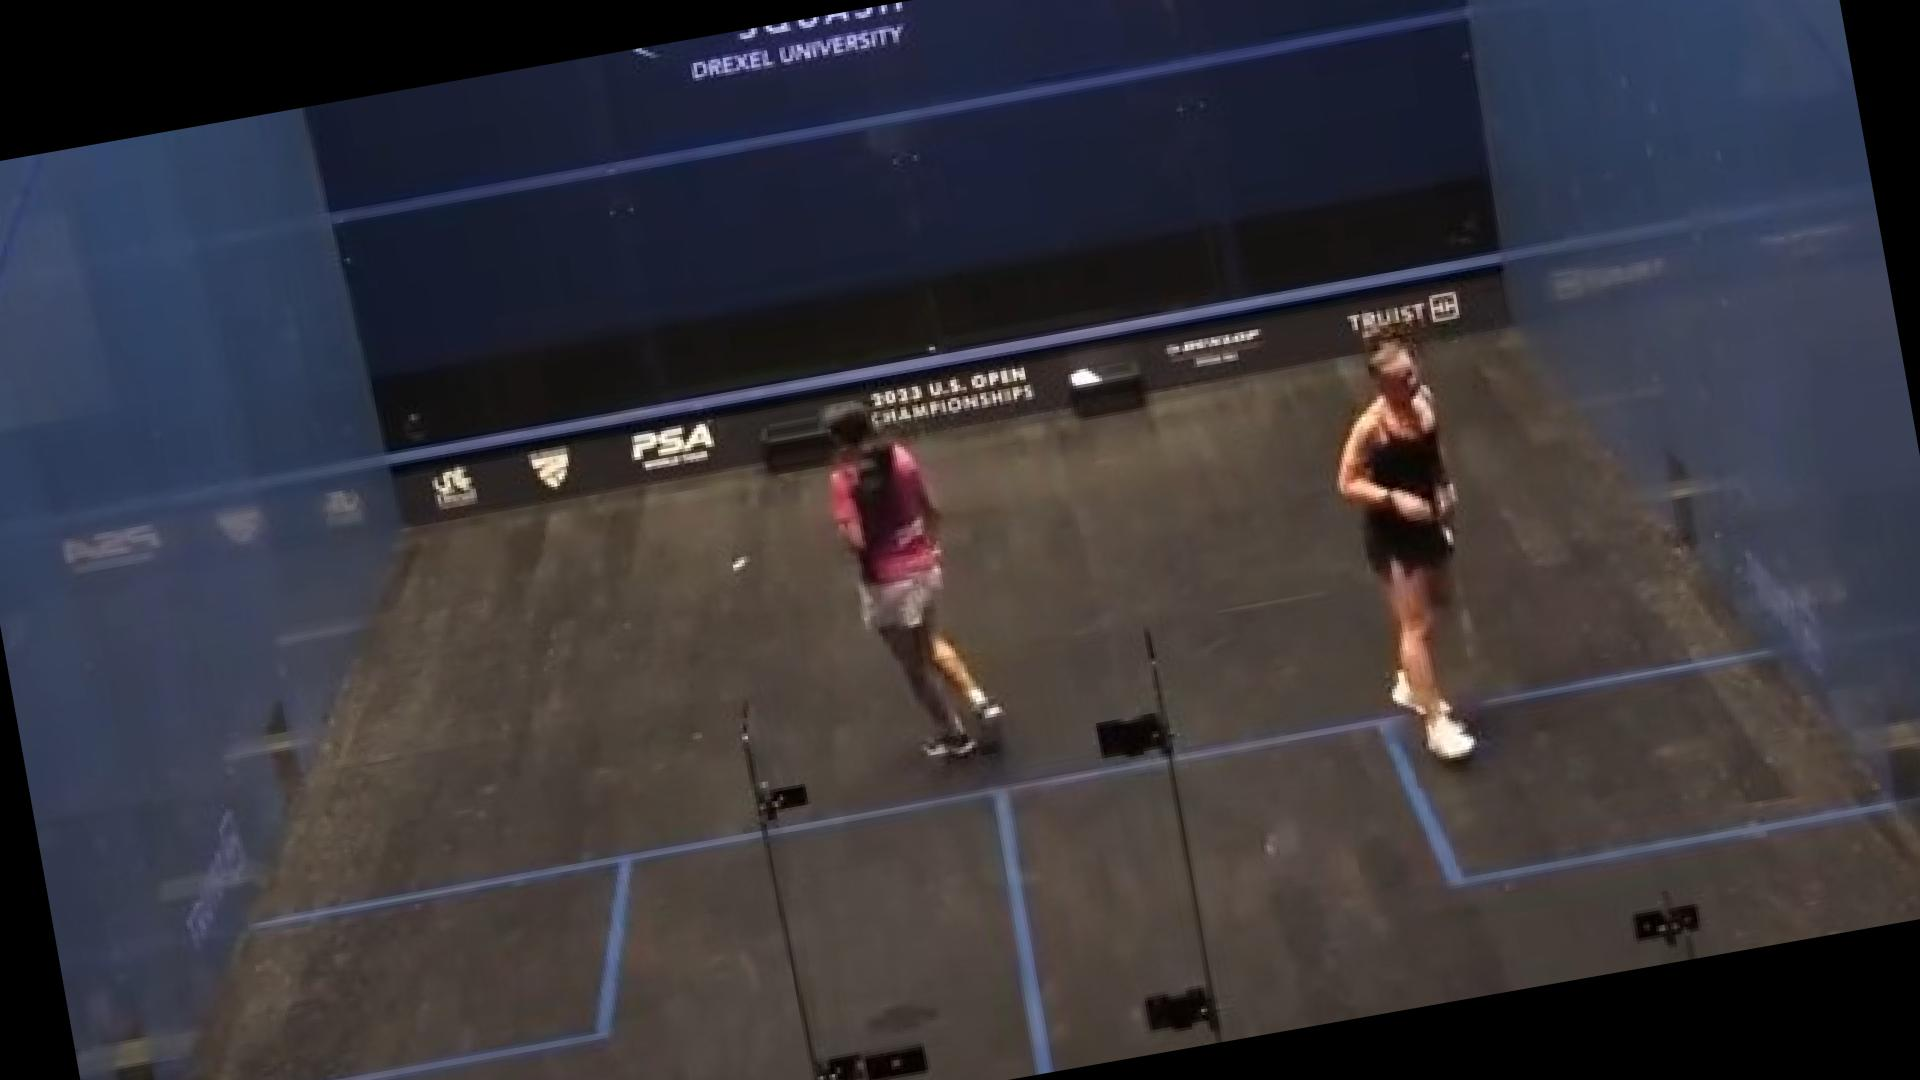Squash-Ball: (695, 524, 785, 608)
